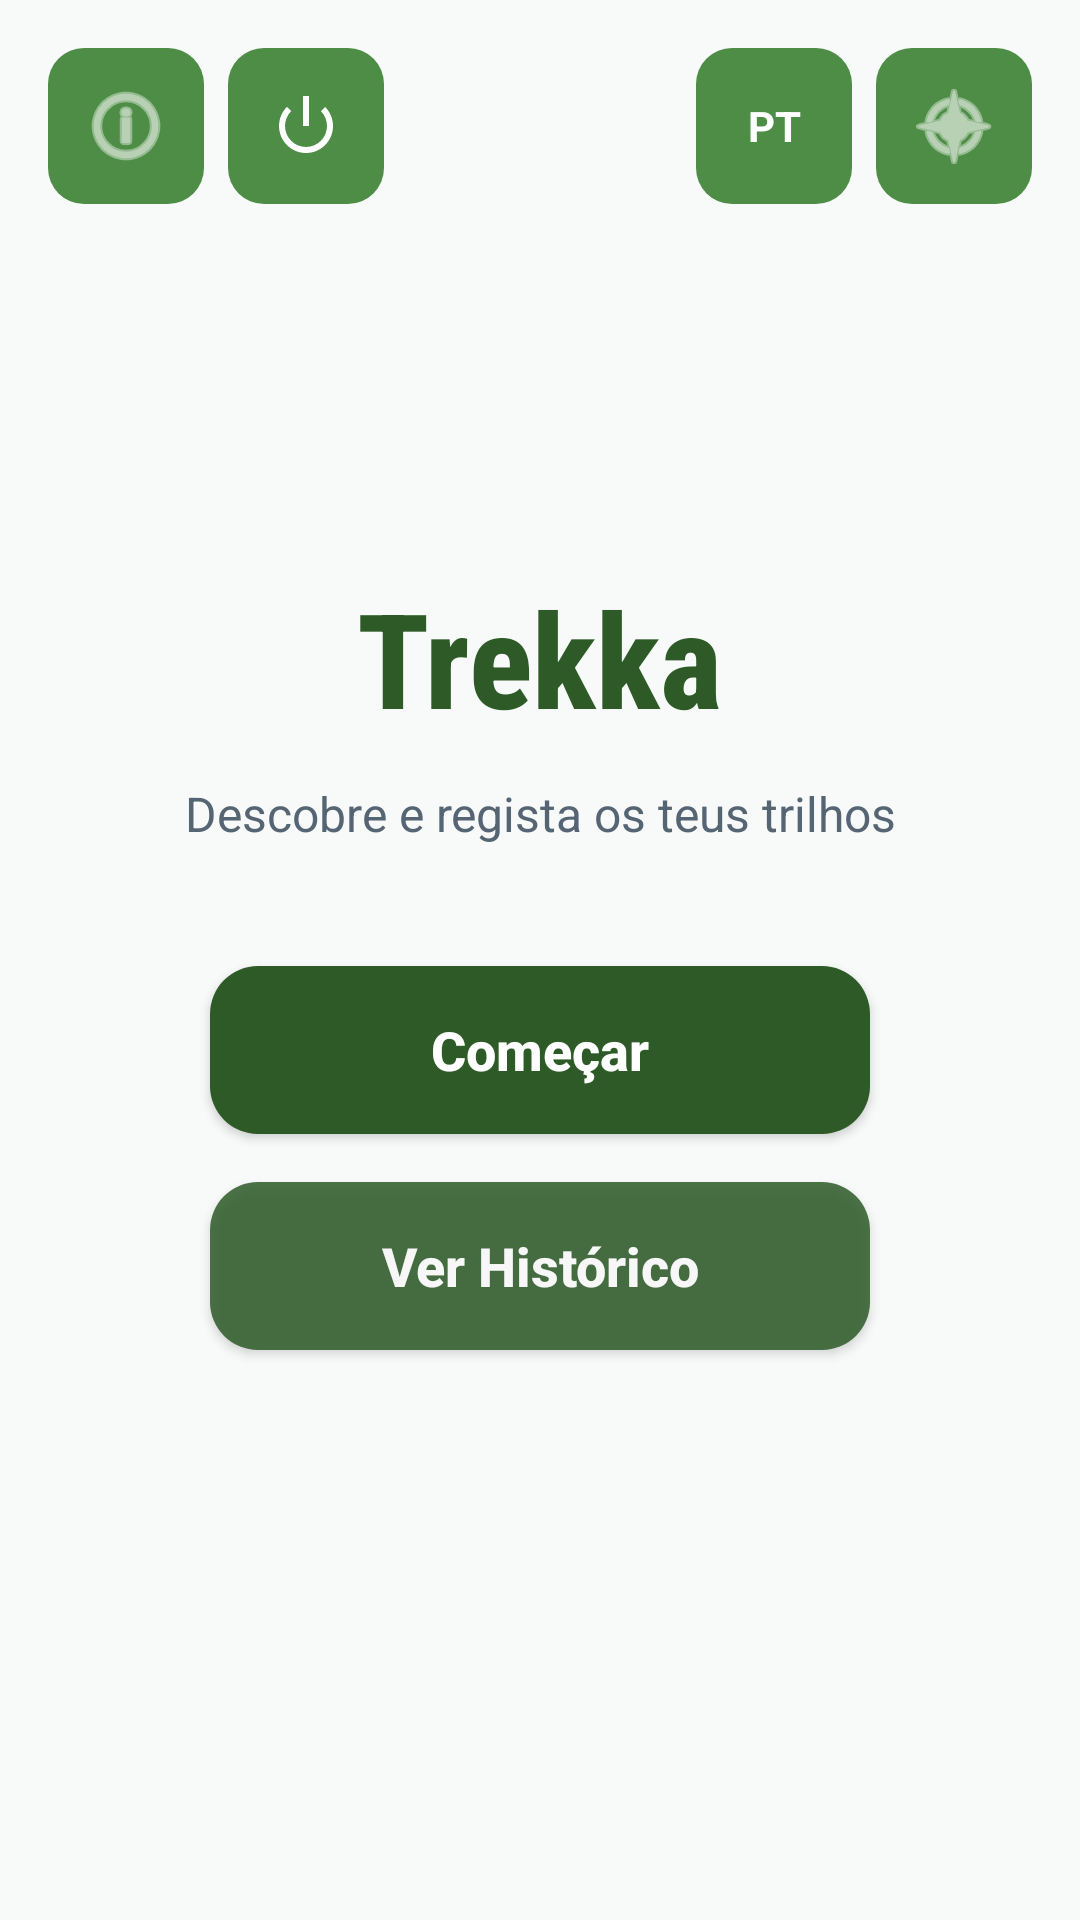

Screen size 1080 x 1920. Icon name, then its box in pixels as (x1, y1, x2, y2):
Sobre a aplicação: (48, 48, 204, 204)
